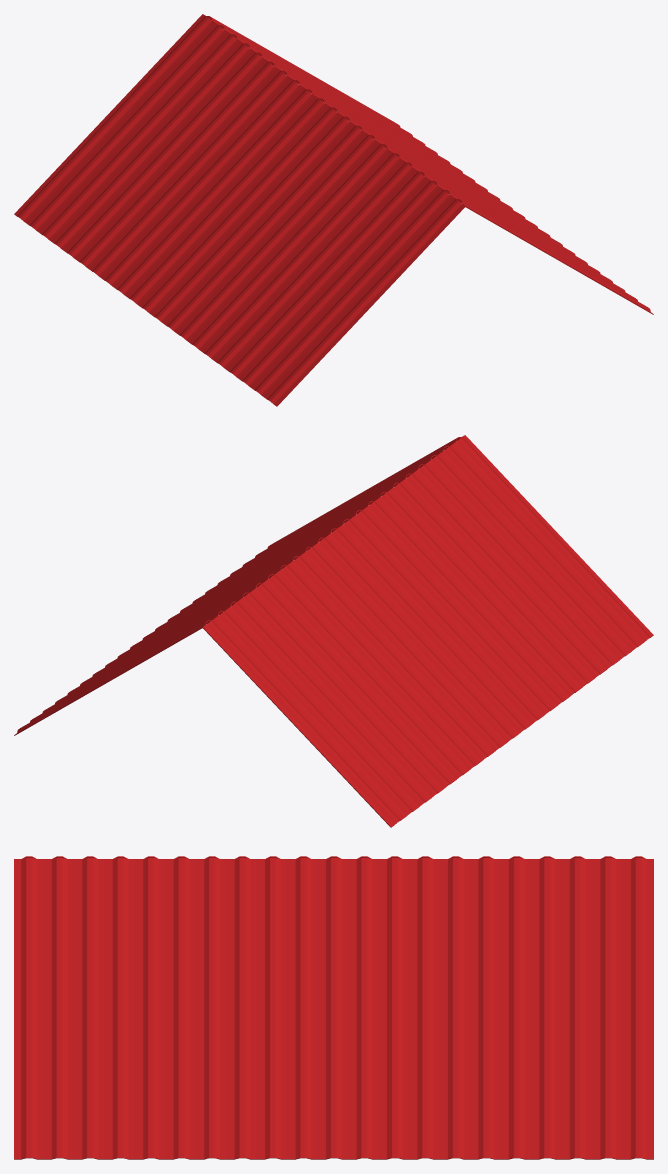
The model's file is profnastilp20_2.glb.
3 renders of one model, top to bottom at view 1: azimuth 30°, elevation 25°; view 2: azimuth 150°, elevation 25°; view 3: azimuth 270°, elevation 25°, orthographic. The views are drawn at different scales.
Parts seen in each view (by area): view 1: PROFNASTIL P20 EV2.; view 2: PROFNASTIL P20 EV2.; view 3: PROFNASTIL P20 EV2..
Part boxes in pixels (bbox=[...]): PROFNASTIL P20 EV2.: bbox=[14, 14, 653, 406]; PROFNASTIL P20 EV2.: bbox=[14, 435, 653, 827]; PROFNASTIL P20 EV2.: bbox=[14, 856, 653, 1159].
Bounding box in the file's own units: 16.08 × 6.32 × 19.26.
